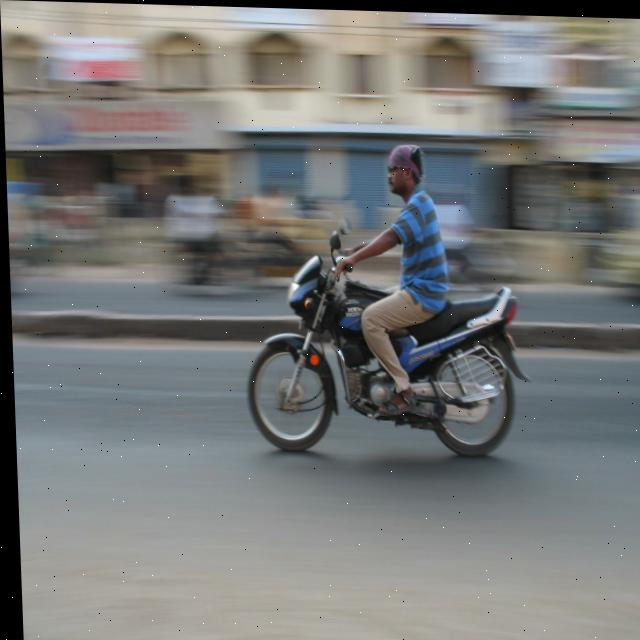without helmet: (379, 124, 436, 201)
